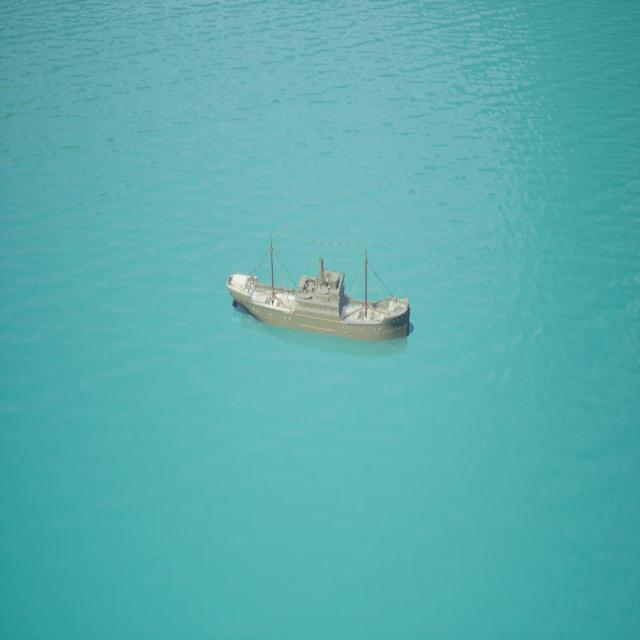fishing ship: (226, 235, 413, 347)
